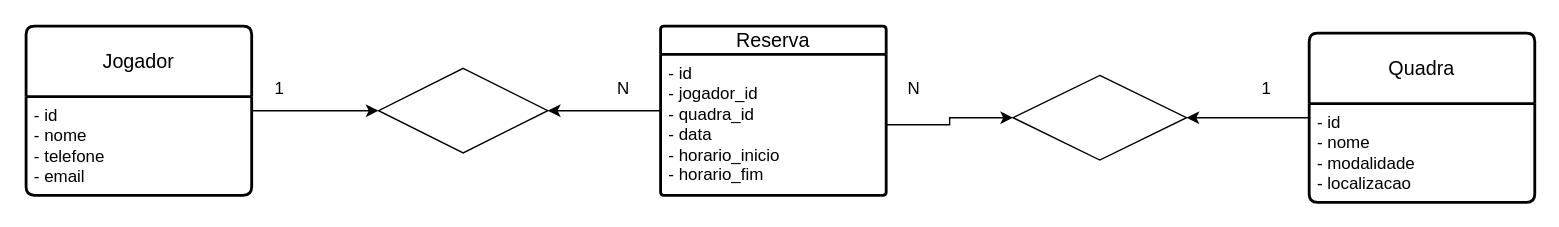
The diagram is 1559 pixels wide and 227 high, and some of its shapes have lost their labels. The shapes that lost their labels are listed below. From the top down, each one's centre as x and y in pixels, then its label:
At point 462,110: "REALIZA".
At point 1099,117: "OCORRE EM".
